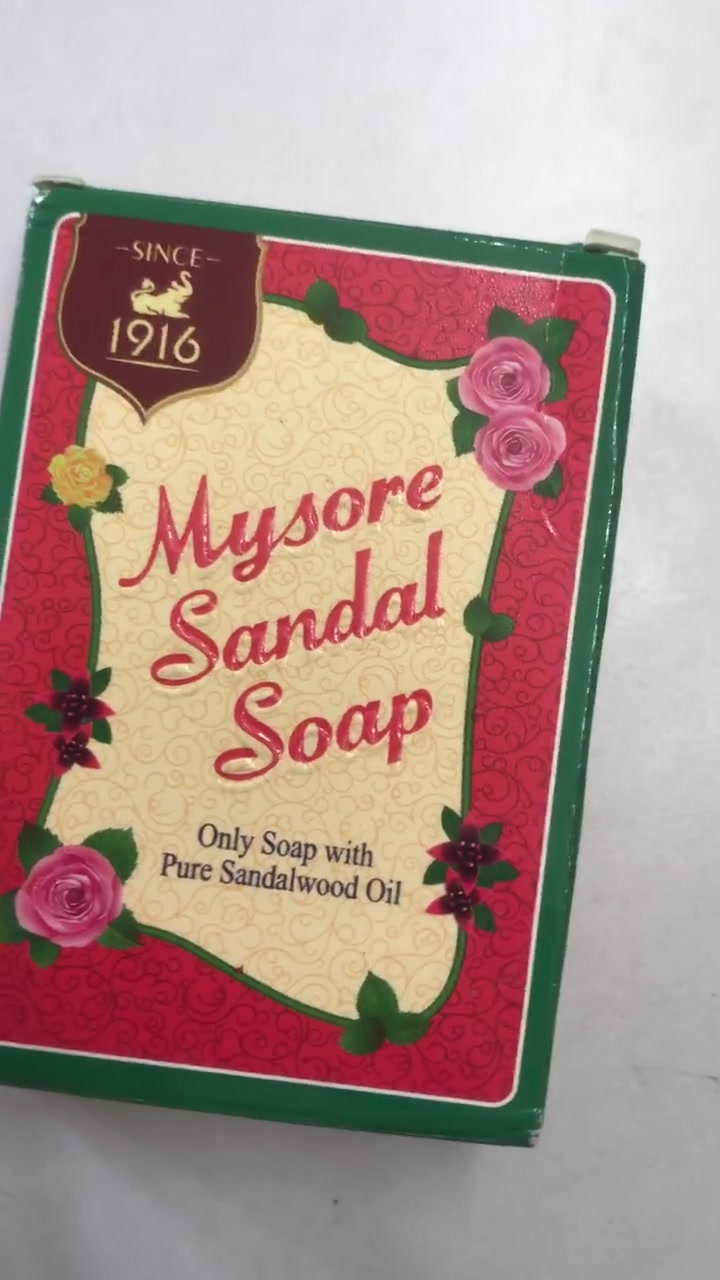mysore sandal soap: (5, 166, 635, 1152)
